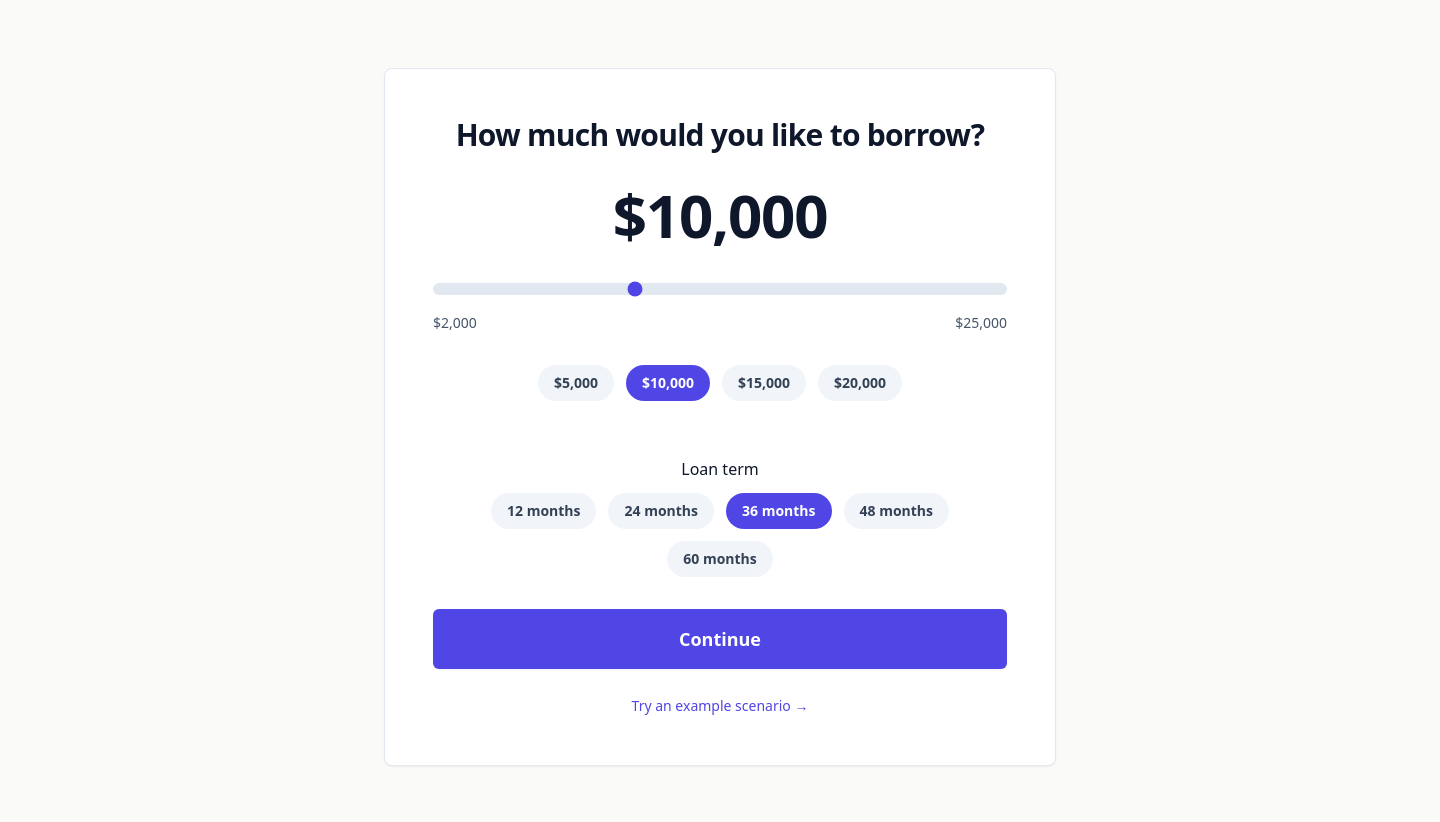
Test: LoanWizard › Step 2: FinancialDetailsStep › advances to step 3 when continue is clicked
The width and height of the screenshot is (1440, 822).
Click the button "Continue" at {"x": 720, "y": 639}, box [433,609,1007,669]
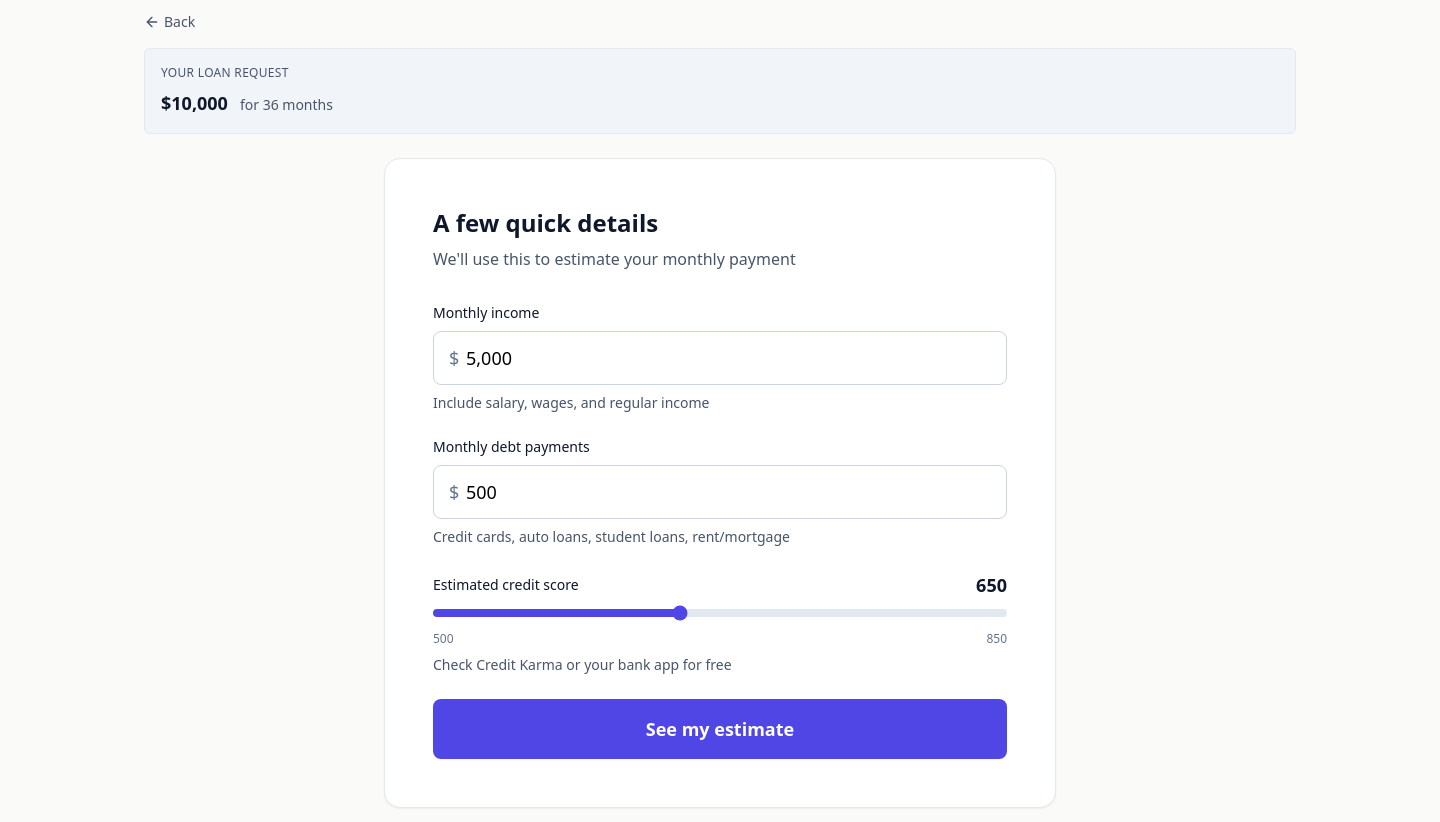
Result: the heading "A few quick details" is shown at [433,206,658,239]
Click the button "See my estimate" at {"x": 720, "y": 729}, box [433,699,1007,759]
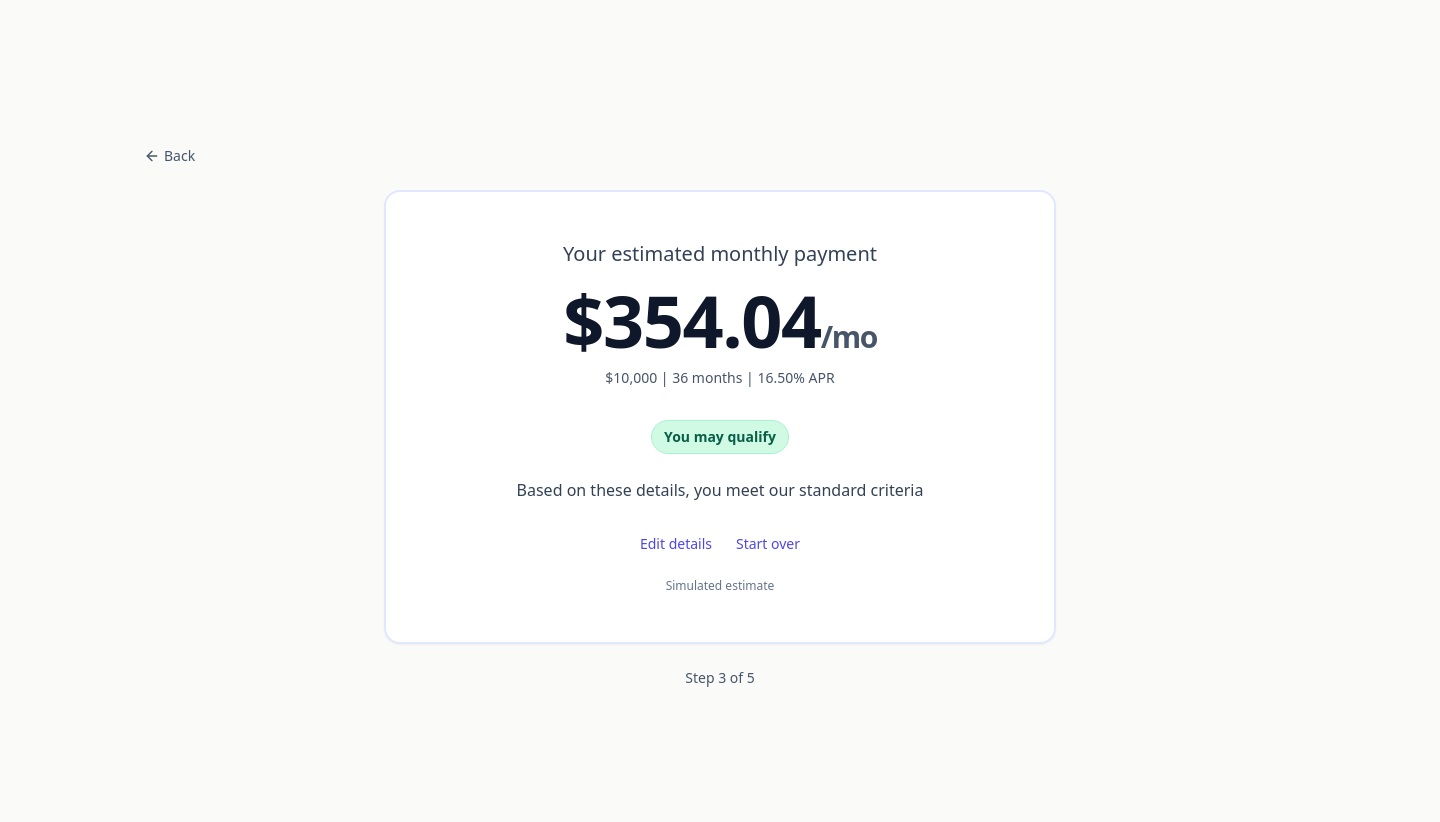
Result: the heading "Your estimated monthly payment" is shown at [563,240,877,267]
